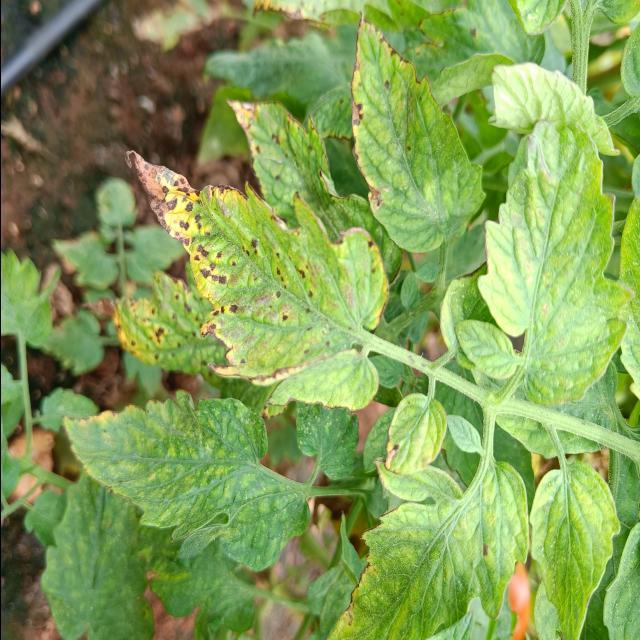Tomato mosaic virus leaf: (120, 142, 390, 423), (346, 11, 486, 254), (376, 392, 448, 479)
